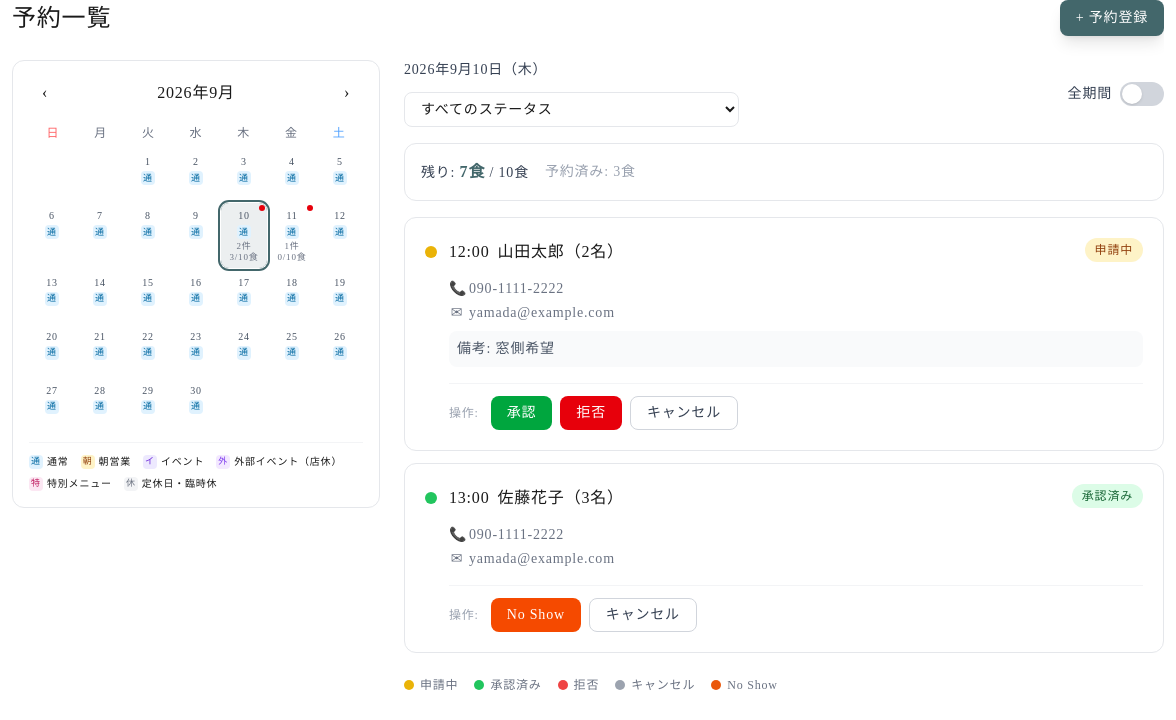
ReservationTable › カレンダーで別の日を選ぶとその日の予約と空き状況を表示する
The image size is (1176, 720).
Click the button "11 通 1件0/10食": (292, 235) [269,203,315,268]
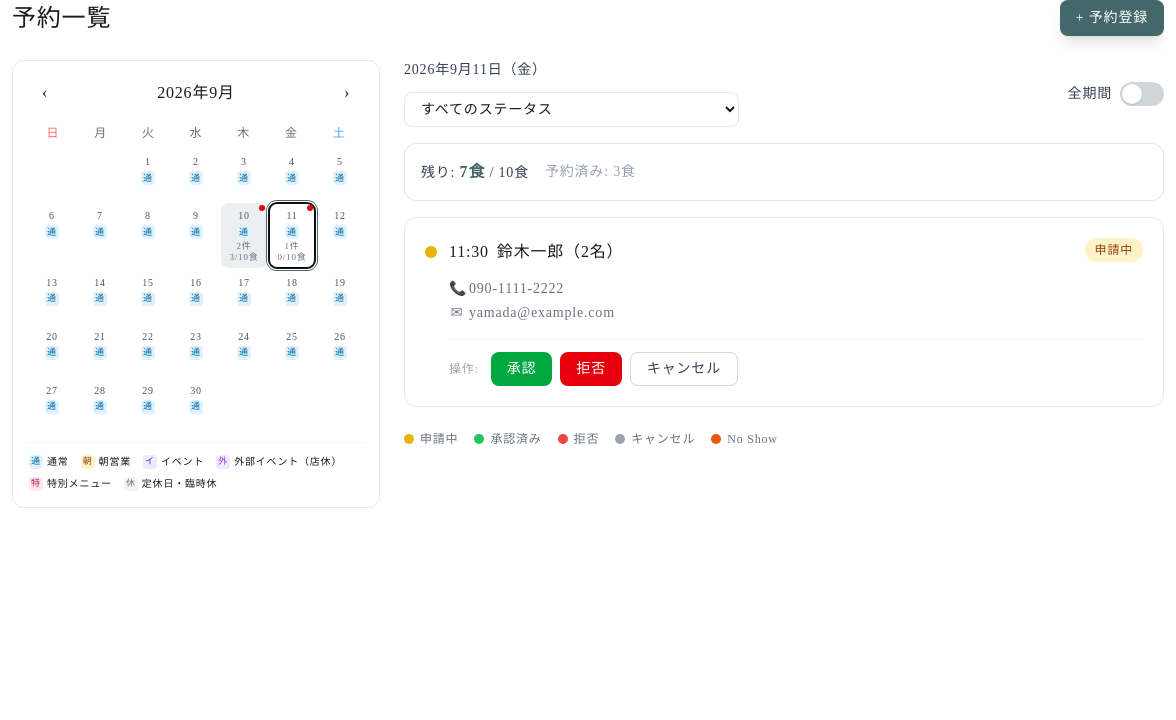
Expected: the text "2026年9月11日（金）" is shown, [404,60,547,80]
Expected: the text "鈴木一郎（2名）" is shown, [497,243,623,260]
Expected: the text "山田太郎（2名）" is gone
